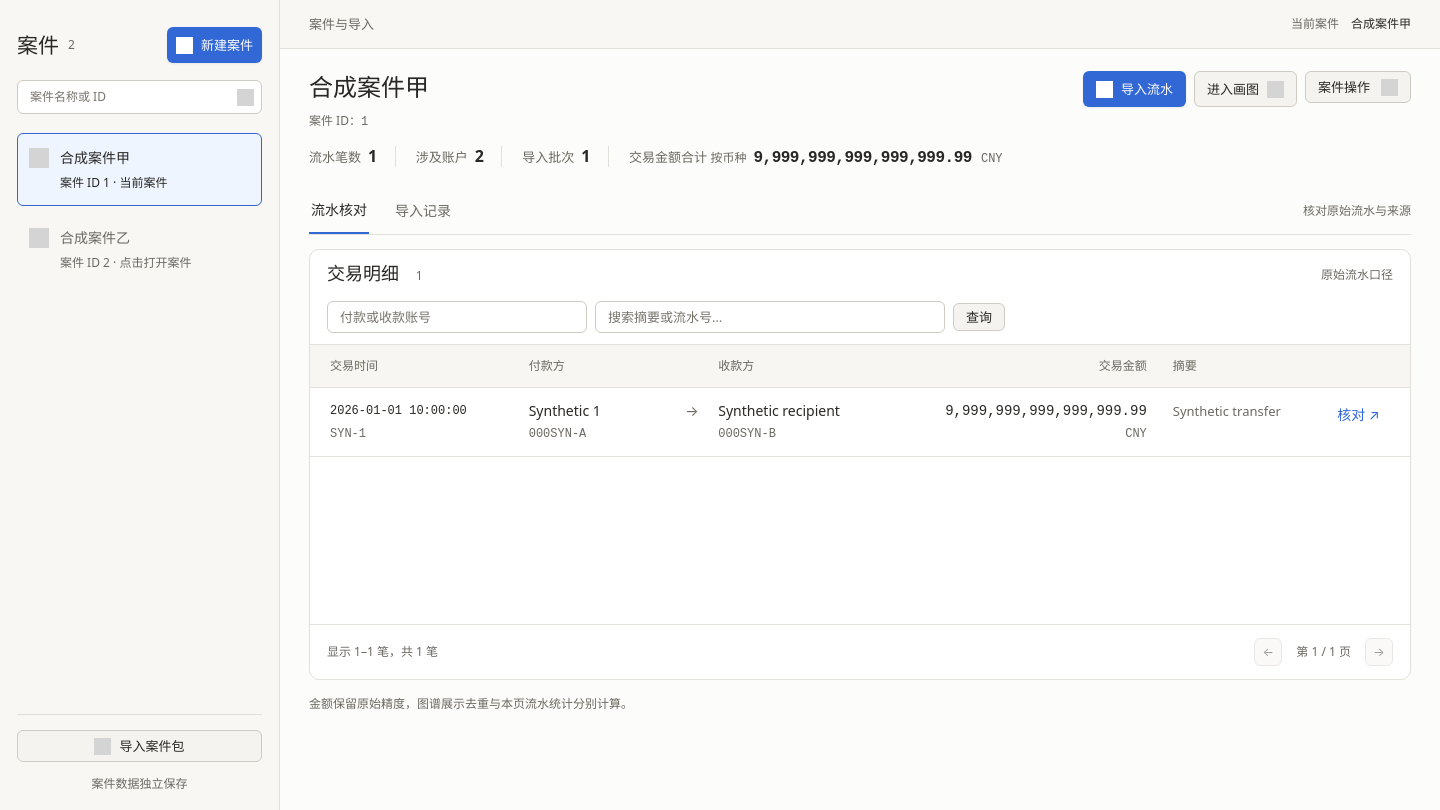
Test: FundsTrace case workspace › unmounts the 案件信息 modal while the cases surface is hidden and preserves its draft on return
Expected: the button with aria-label "核对流水 SYN-1" is shown, [1335, 401, 1382, 429]
Type "保留查询草稿" into the field named "账号筛选" at (457, 317), box [327, 301, 587, 333]
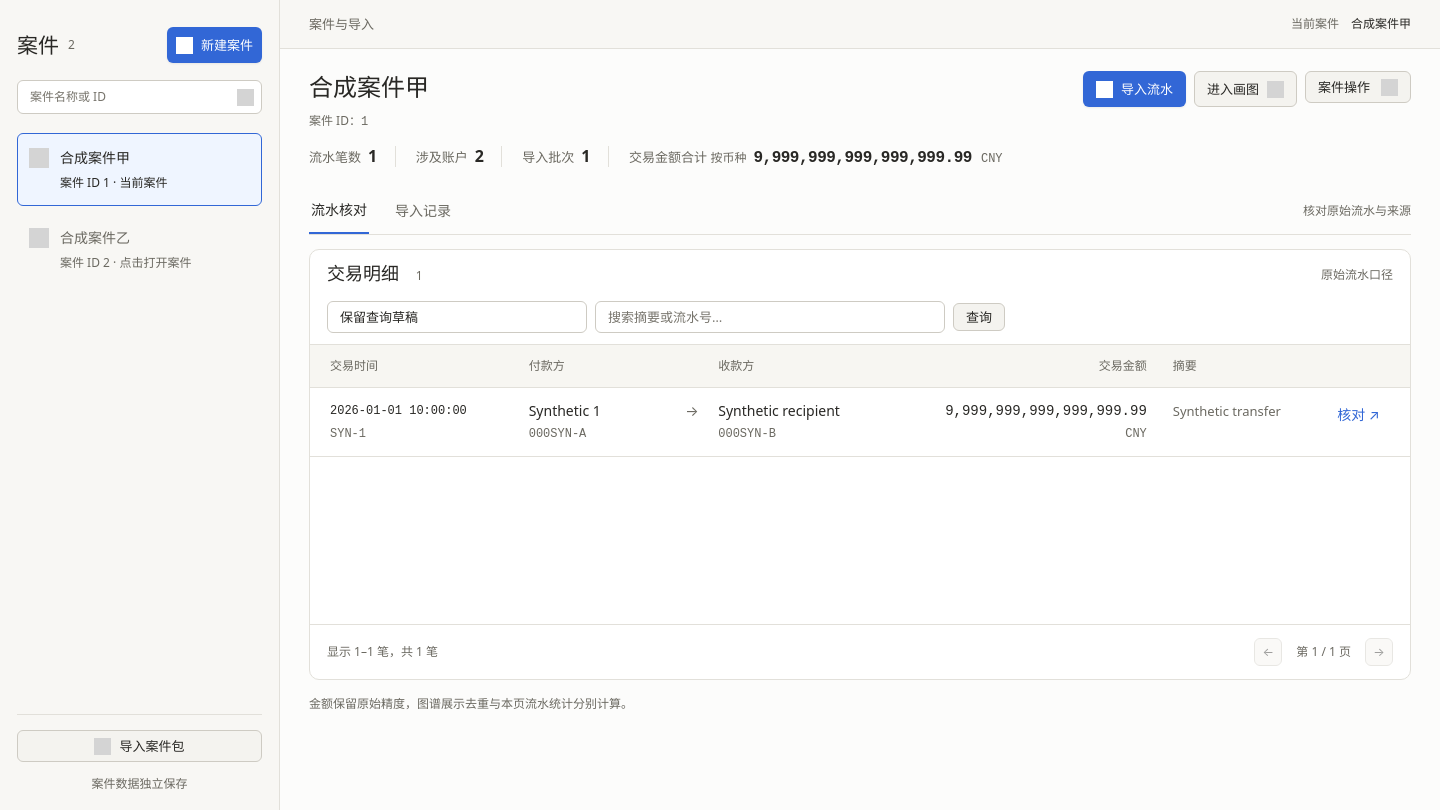
Click the heading "案件操作" at (1358, 87), box [1305, 71, 1411, 103]
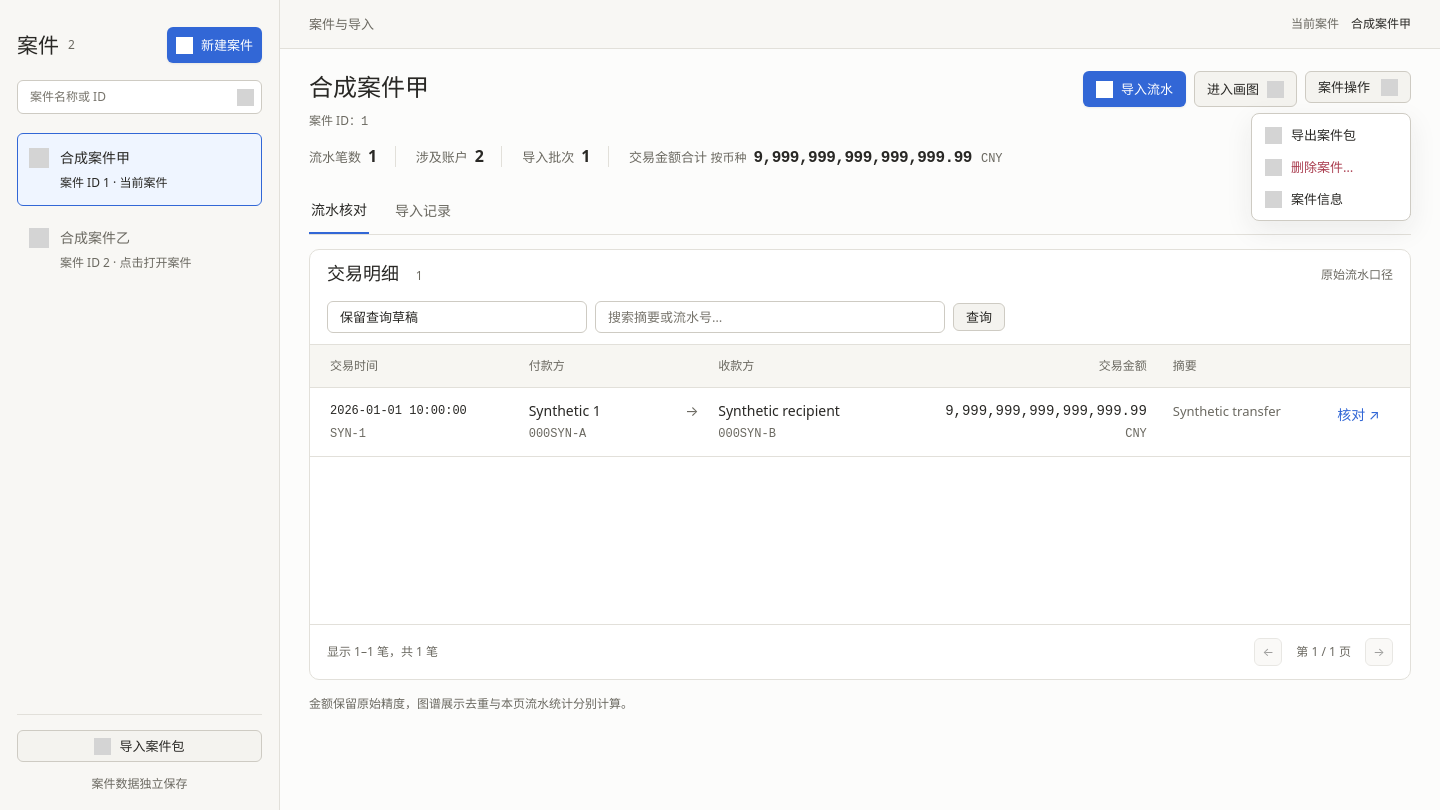
Click the button "案件信息" at (1331, 199), box [1257, 183, 1405, 215]
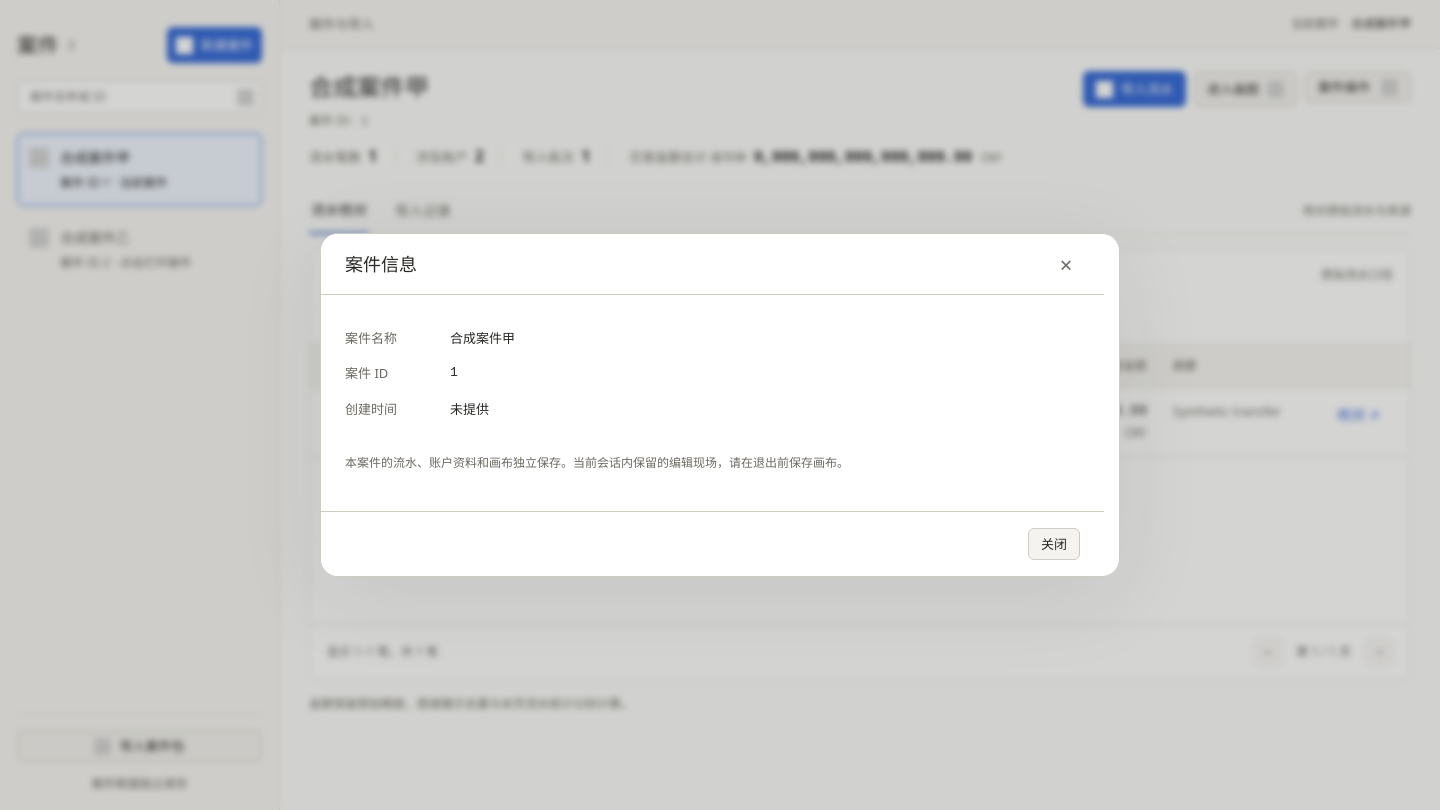
Now the dialog "案件信息" is shown, box [320, 233, 1120, 577]
